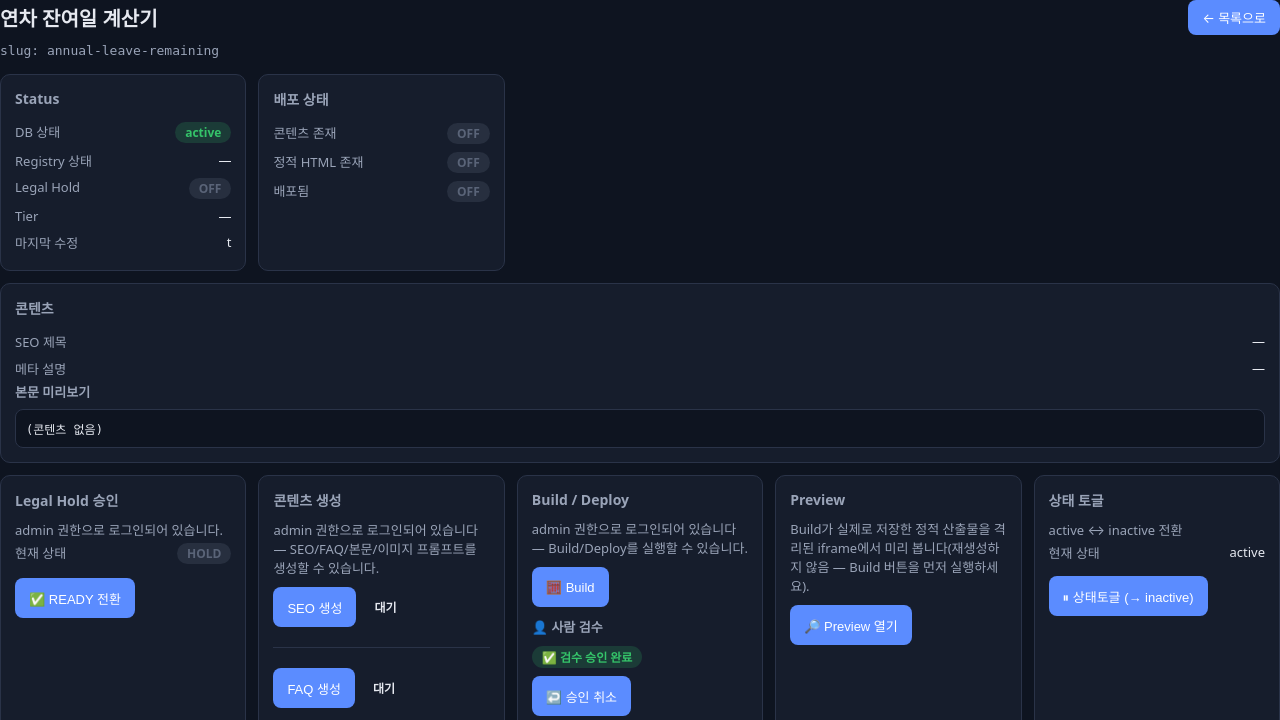
Scenario: BuildDeployCard Human Review Approval (STEP S1) › unapprove(승인 취소) disables Deploy again
Check: the text "✅ 검수 승인 완료" is shown, box [532,646,642,668]
Click the button "↩️ 승인 취소" at (581, 696), box [532,676,631,716]
(page scrolled)
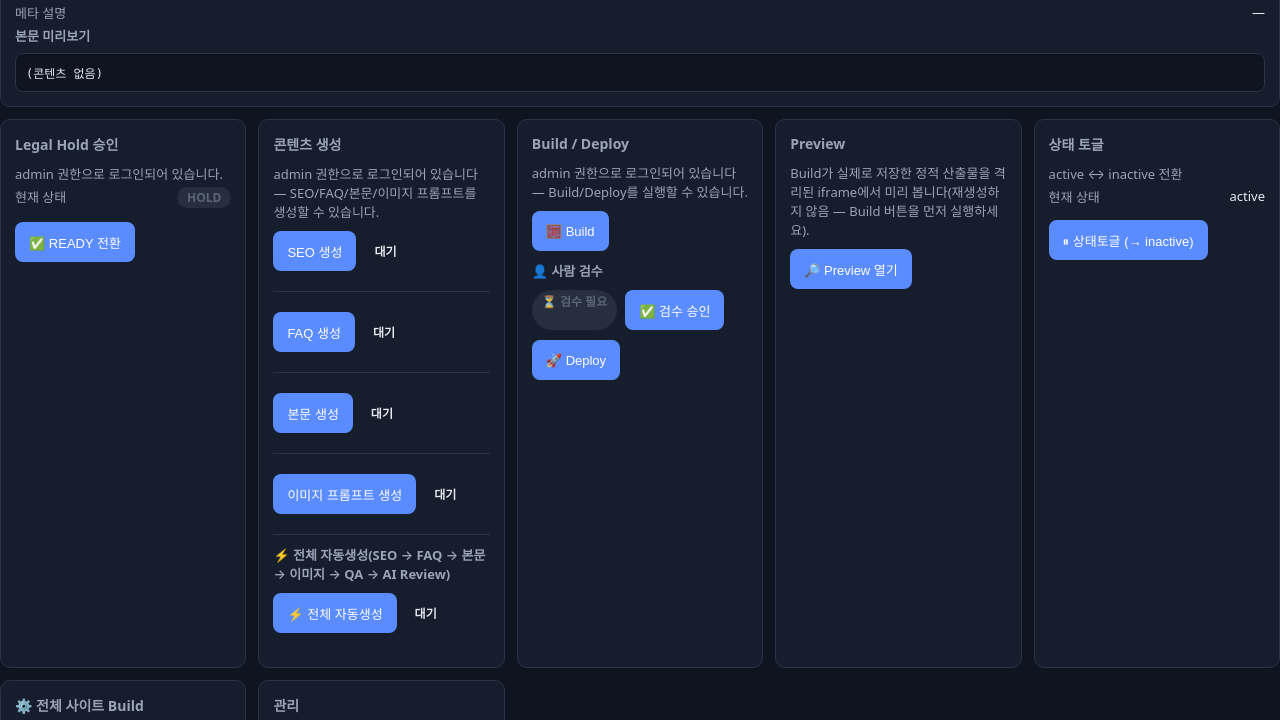
Check: the text "⏳ 검수 필요" is shown, box [532,290,617,330]
Check: the button "🚀 Deploy" is disabled, box [532,340,620,380]
